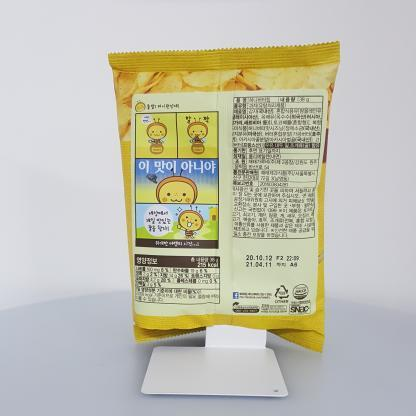Plastic Packaging: (103, 36, 354, 360)
